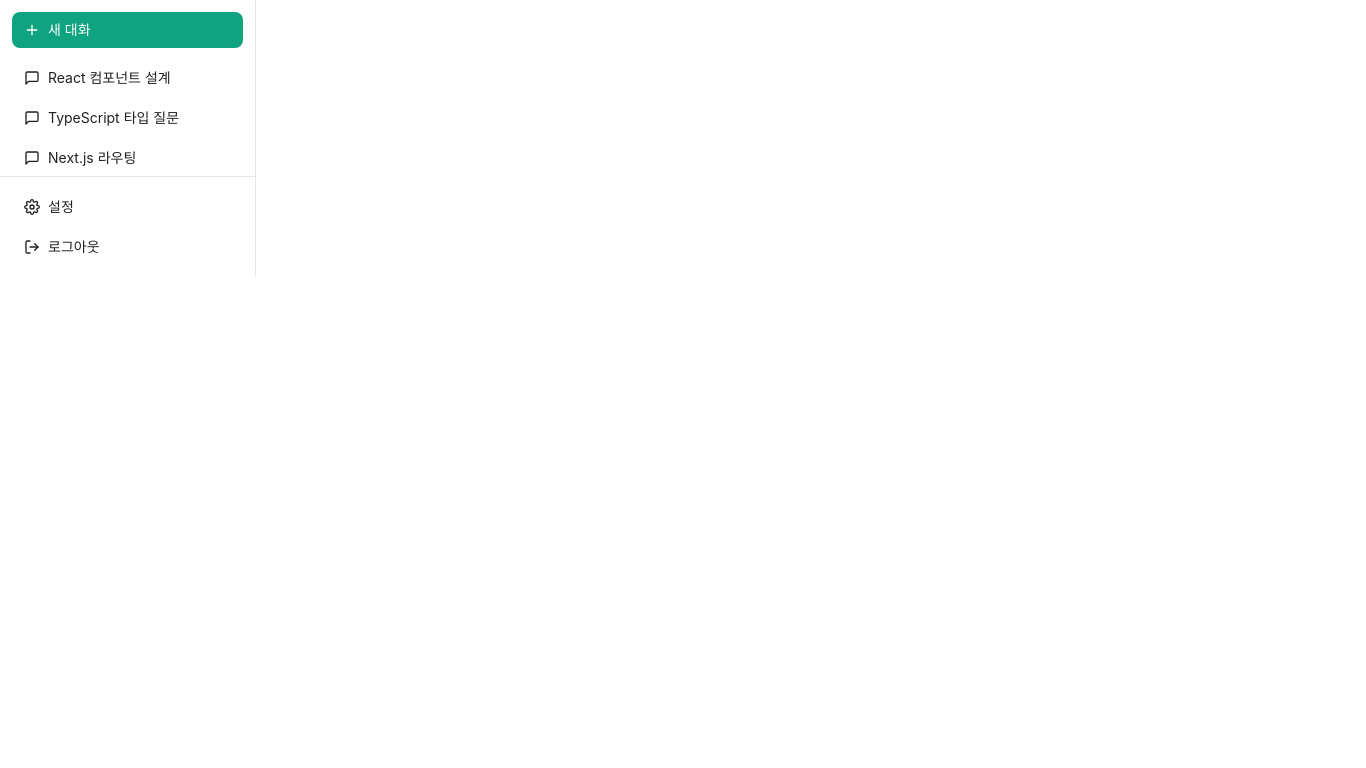
Sidebar › shows confirmation popup when logout button is clicked
Click the button "로그아웃".
click(128, 247)  # box [12, 229, 243, 265]
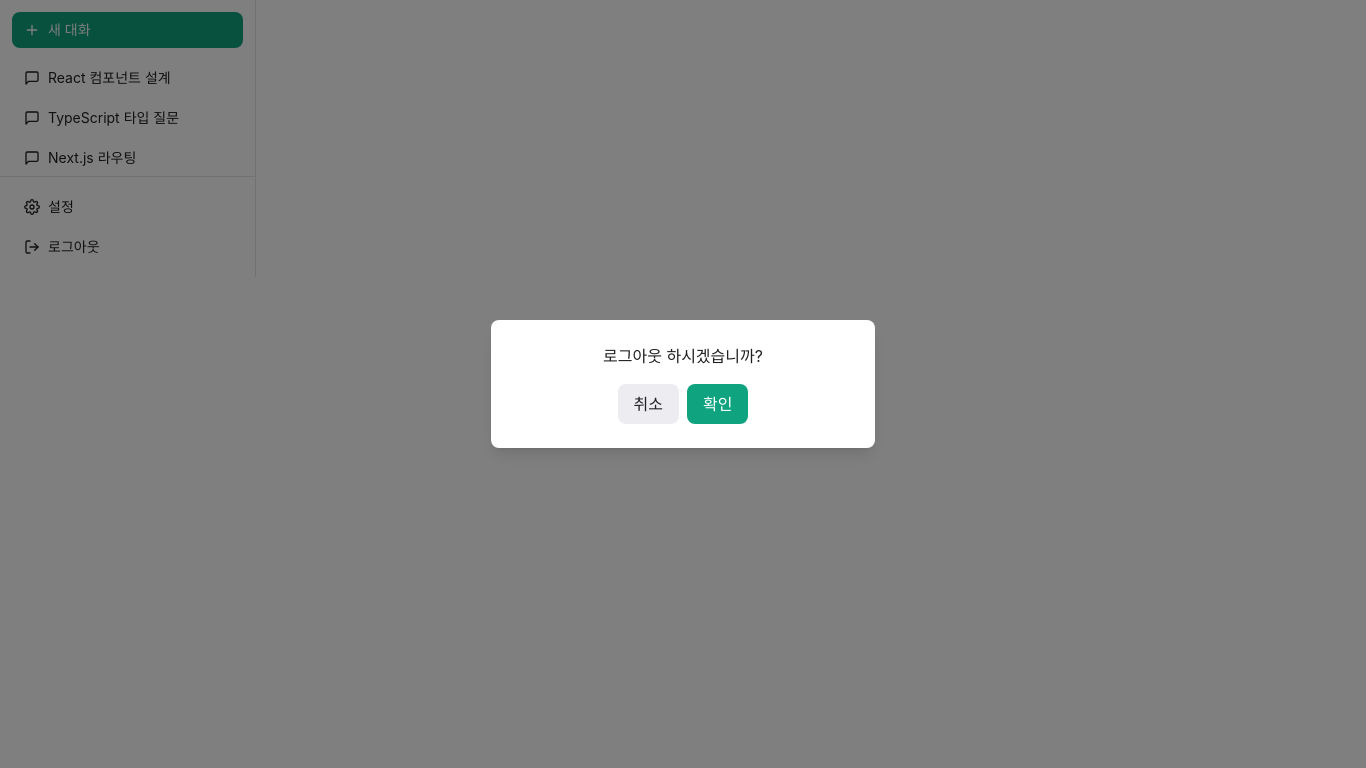
Expected: the text "로그아웃 하시겠습니까?" is shown, [603, 346, 763, 366]
